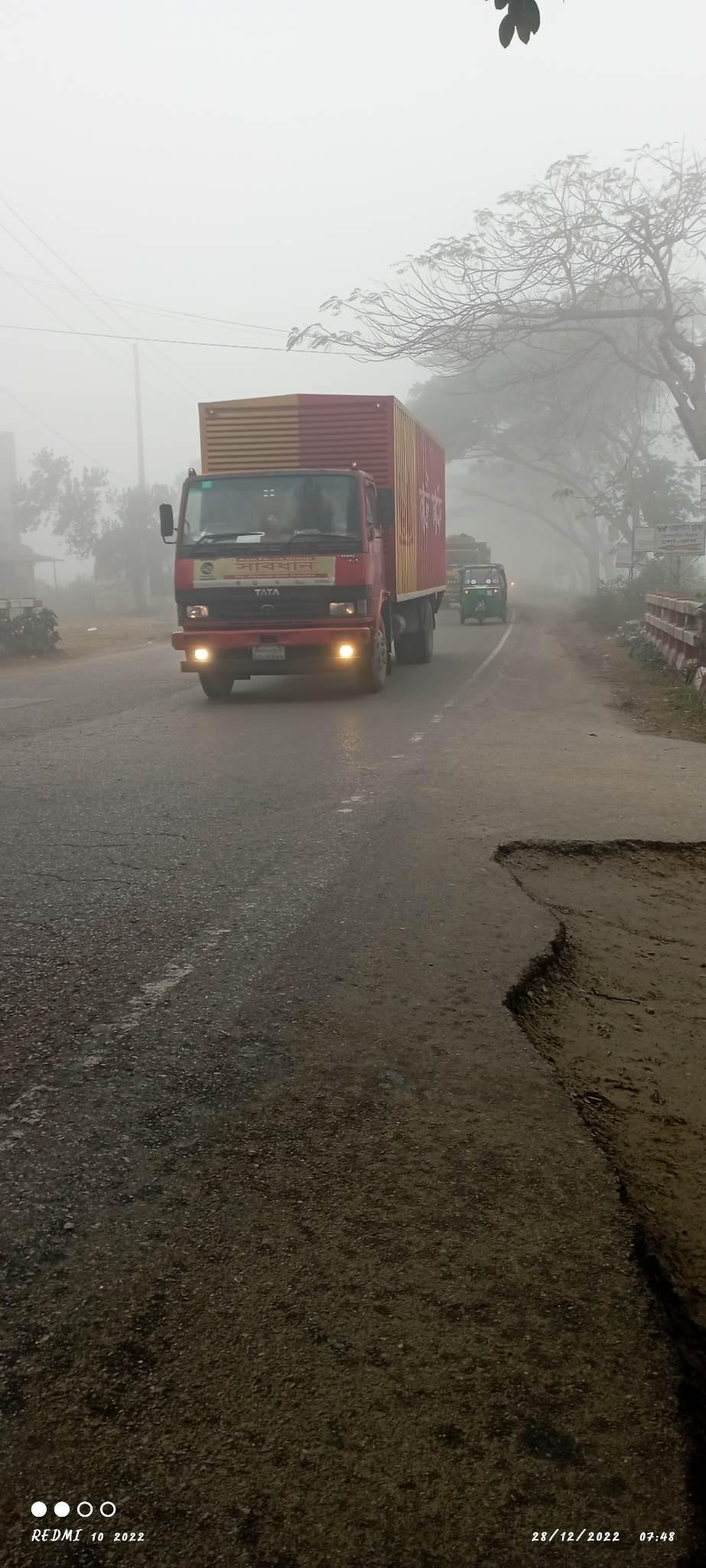Truck: (142, 371, 458, 730)
